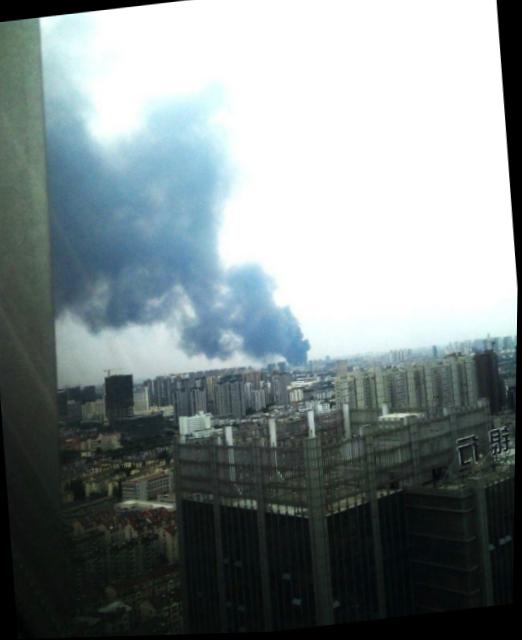smoke: (36, 66, 134, 329), (115, 93, 224, 273), (156, 246, 256, 355), (243, 301, 327, 365)
